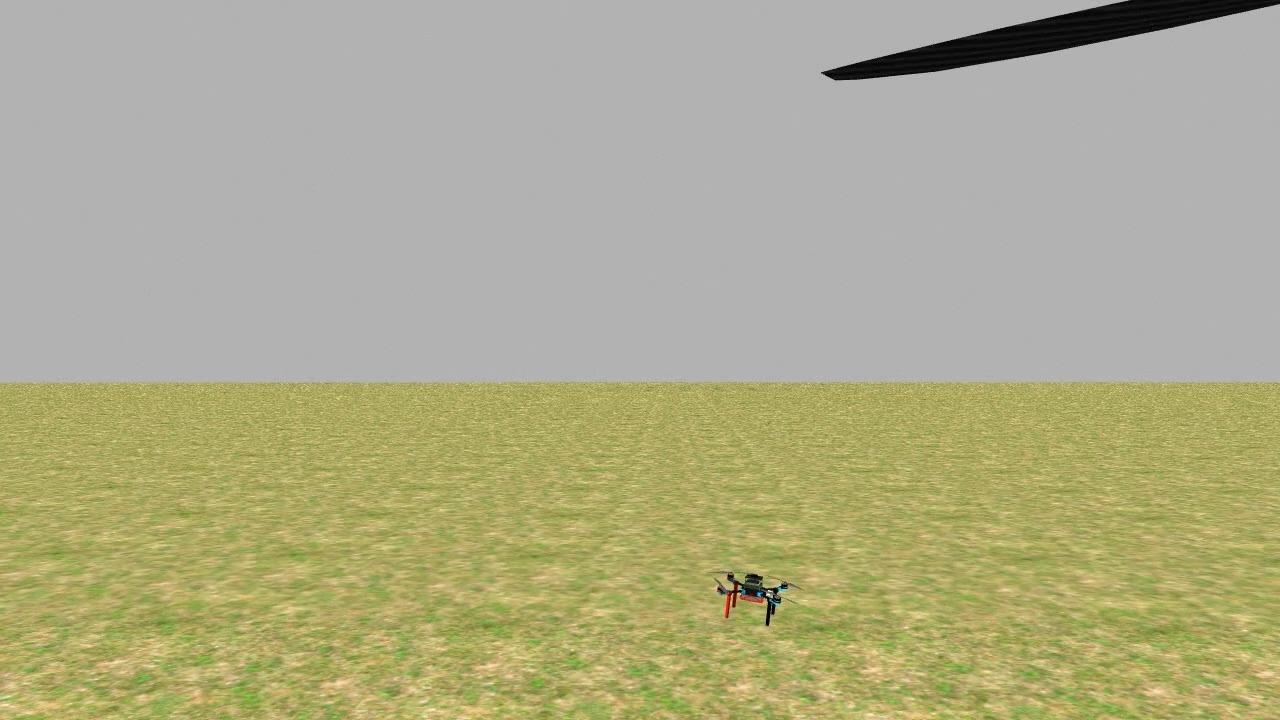UAV: (706, 562, 798, 630)
